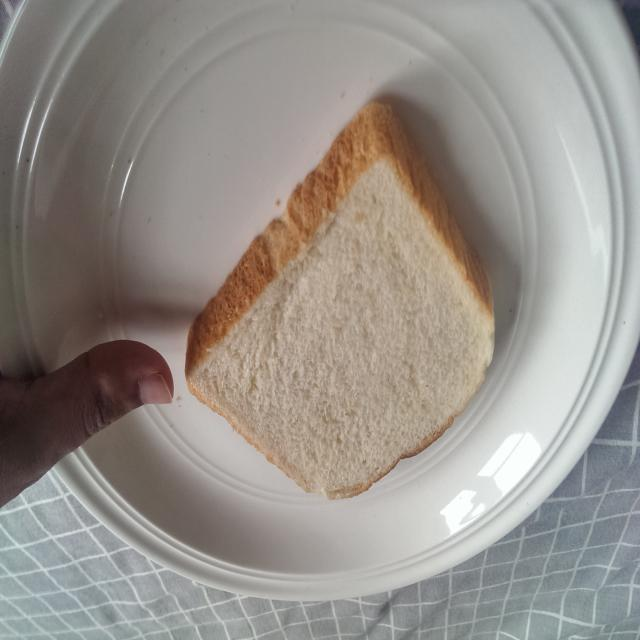Bread: (183, 84, 507, 514)
Finger: (55, 324, 184, 473)
